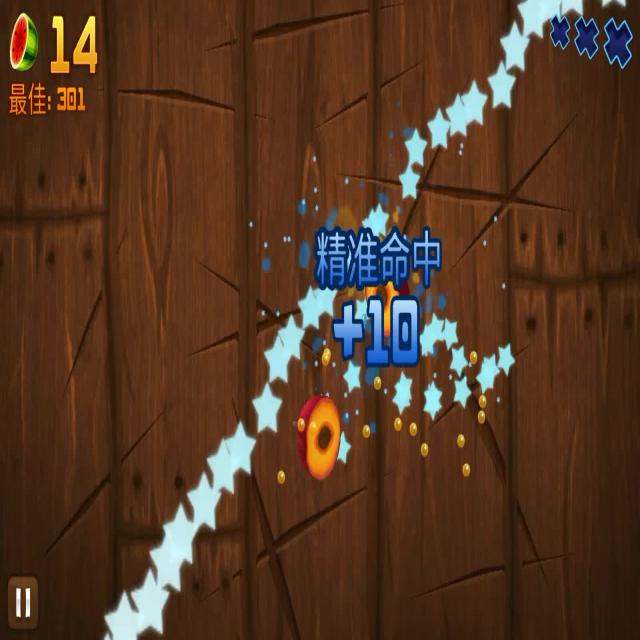fruit: (296, 388, 342, 480), (362, 264, 411, 335)
